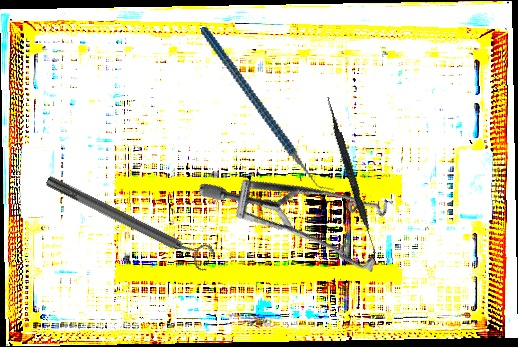Chopper: (200, 4, 335, 215)
Fixation Ring: (41, 166, 218, 275)
Spatula Surgical: (321, 96, 383, 261)
Speculum: (195, 99, 417, 324)
